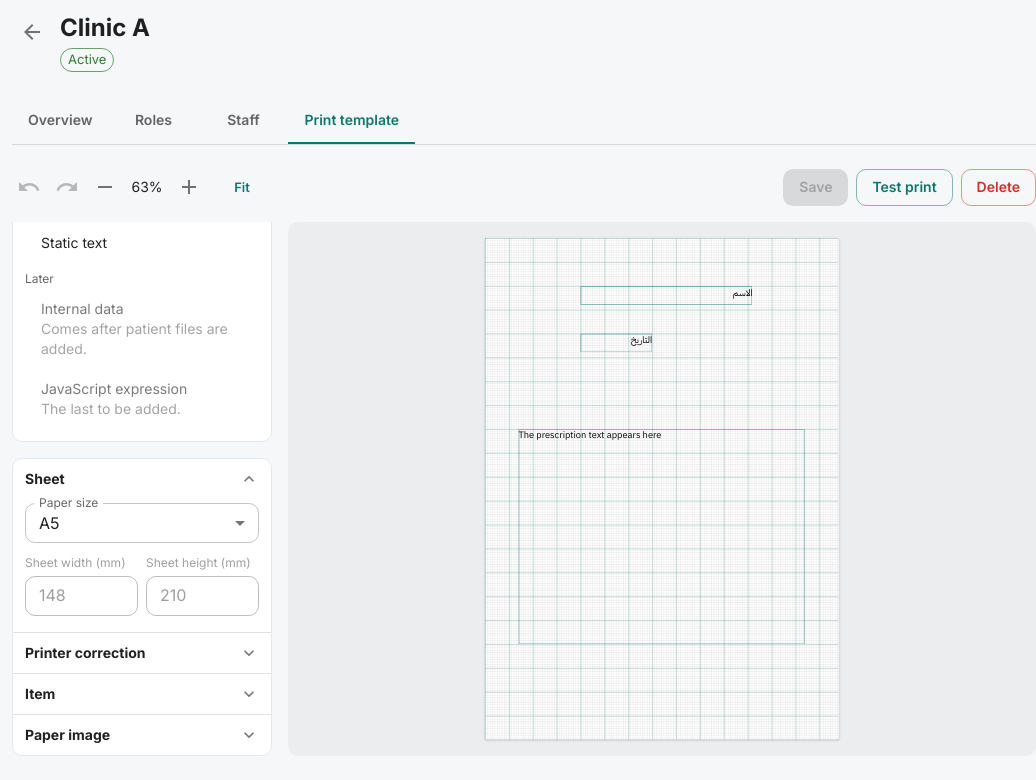
Test: selecting opens the item's section @area:admin › a press on a box, with another section open @TPL-730 @smoke
(page scrolled)
Click the button "Printer correction": (142, 652) [13, 632, 271, 672]
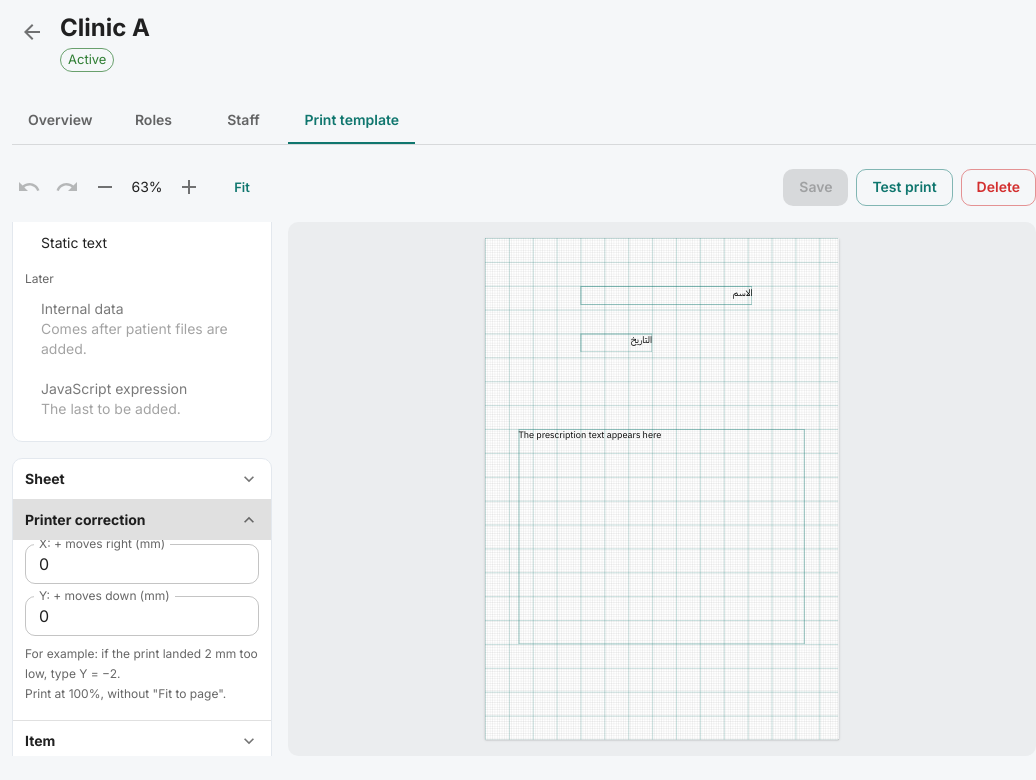
Press the mouse on the button "الاسم": (667, 295) [581, 285, 753, 304]
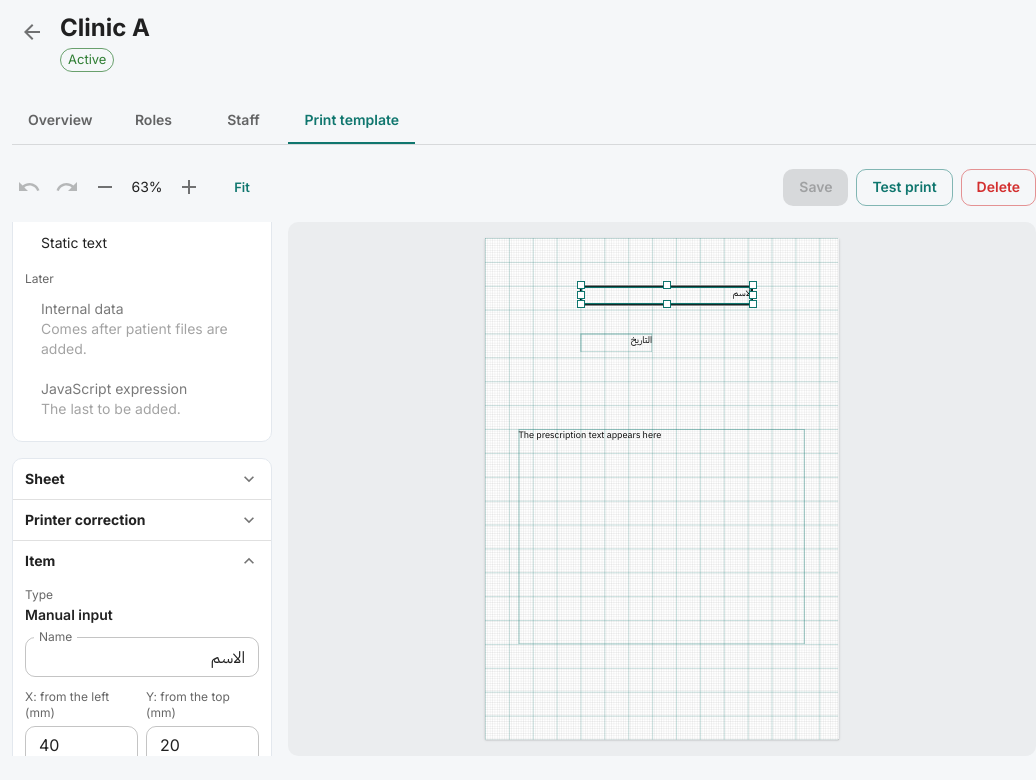
Result: the field labelled "X: from the left (mm)" is shown at [25, 726, 138, 756]
